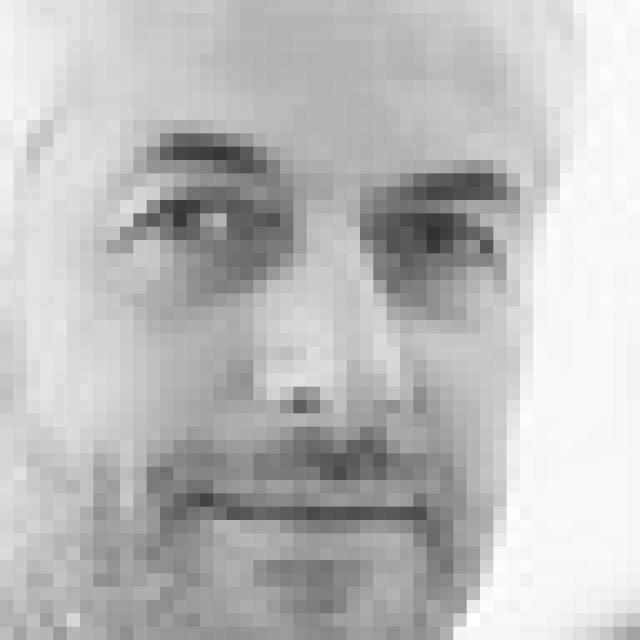neutral: (100, 122, 523, 582)
